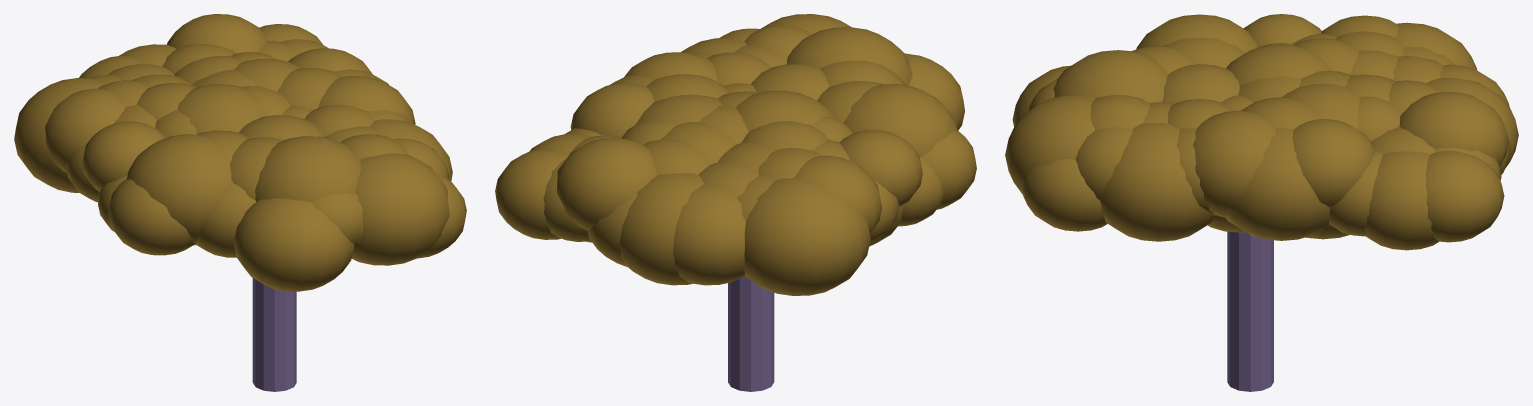
Rendered from tree29.fbx.
3 renders of one model, left to right at view 1: azimuth 30°, elevation 25°; view 2: azimuth 150°, elevation 25°; view 3: azimuth 270°, elevation 25°, orthographic. The views are drawn at different scales.
Parts seen in each view (by area): view 1: TREE29_leaf67, TREE29_leaf64, TREE29_leaf47, TREE29_leaf60, TREE29_trunk, TREE29_leaf46, TREE29_leaf6, TREE29_leaf14, TREE29_leaf30, TREE29_leaf33, TREE29_leaf3, TREE29_leaf45 (+31 smaller); view 2: TREE29_leaf6, TREE29_leaf3, TREE29_leaf0, TREE29_leaf1, TREE29_trunk, TREE29_leaf47, TREE29_leaf5, TREE29_leaf60, TREE29_leaf30, TREE29_leaf29, TREE29_leaf14, TREE29_leaf33 (+29 smaller); view 3: TREE29_leaf59, TREE29_trunk, TREE29_leaf37, TREE29_leaf45, TREE29_leaf5, TREE29_leaf13, TREE29_leaf67, TREE29_leaf3, TREE29_leaf29, TREE29_leaf60, TREE29_leaf68, TREE29_leaf33 (+29 smaller).
Part boxes in pixels (x1=…): TREE29_leaf67: x1=351, y1=153, x2=449, y2=265; TREE29_leaf64: x1=233, y1=198, x2=354, y2=291; TREE29_leaf47: x1=127, y1=134, x2=231, y2=245; TREE29_leaf60: x1=255, y1=136, x2=360, y2=201; TREE29_trunk: x1=252, y1=278, x2=296, y2=391; TREE29_leaf46: x1=108, y1=178, x2=194, y2=255; TREE29_leaf6: x1=14, y1=78, x2=105, y2=192; TREE29_leaf14: x1=45, y1=88, x2=124, y2=172; TREE29_leaf30: x1=82, y1=121, x2=165, y2=191; TREE29_leaf33: x1=177, y1=84, x2=266, y2=134; TREE29_leaf3: x1=167, y1=14, x2=268, y2=53; TREE29_leaf45: x1=318, y1=76, x2=415, y2=124; TREE29_leaf6: x1=744, y1=178, x2=870, y2=295; TREE29_leaf3: x1=557, y1=138, x2=656, y2=230; TREE29_leaf0: x1=673, y1=184, x2=745, y2=285; TREE29_leaf1: x1=619, y1=173, x2=703, y2=285; TREE29_trunk: x1=728, y1=275, x2=774, y2=391; TREE29_leaf47: x1=843, y1=84, x2=957, y2=157; TREE29_leaf5: x1=495, y1=149, x2=568, y2=239; TREE29_leaf60: x1=787, y1=27, x2=912, y2=85; TREE29_leaf30: x1=840, y1=130, x2=922, y2=206; TREE29_leaf29: x1=570, y1=83, x2=654, y2=136; TREE29_leaf14: x1=794, y1=155, x2=881, y2=233; TREE29_leaf33: x1=736, y1=90, x2=835, y2=131; TREE29_leaf59: x1=1100, y1=123, x2=1213, y2=241; TREE29_trunk: x1=1227, y1=231, x2=1273, y2=391; TREE29_leaf37: x1=1226, y1=127, x2=1329, y2=240; TREE29_leaf45: x1=1193, y1=110, x2=1275, y2=218; TREE29_leaf5: x1=1425, y1=150, x2=1504, y2=242; TREE29_leaf13: x1=1364, y1=151, x2=1438, y2=250; TREE29_leaf67: x1=1005, y1=95, x2=1095, y2=194; TREE29_leaf3: x1=1399, y1=92, x2=1508, y2=166; TREE29_leaf29: x1=1292, y1=119, x2=1375, y2=207; TREE29_leaf60: x1=1053, y1=50, x2=1168, y2=102; TREE29_leaf68: x1=1021, y1=159, x2=1107, y2=231; TREE29_leaf33: x1=1226, y1=44, x2=1331, y2=85.
Bounding box in the file's own units: 603 × 511 × 768.
